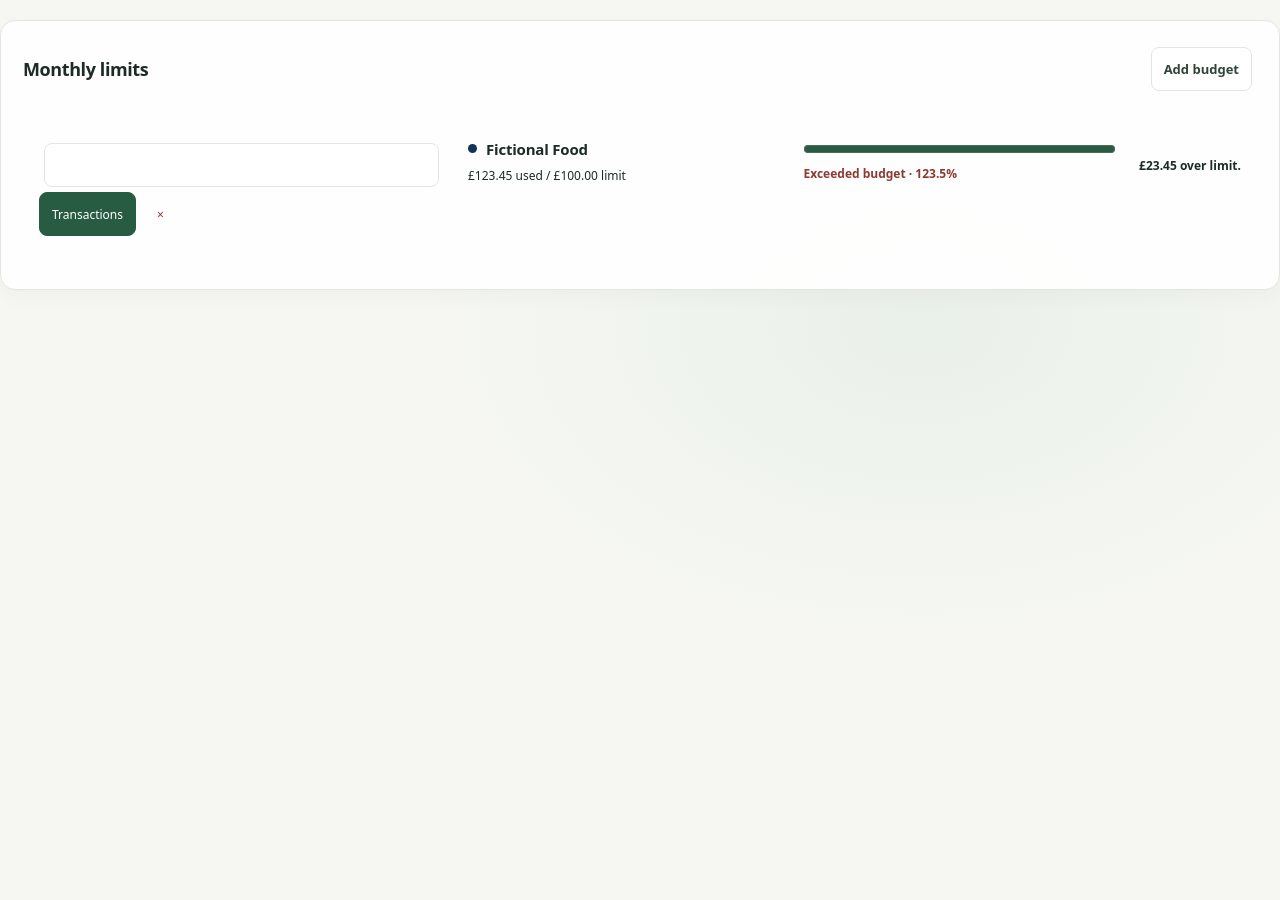
Test: monthly budgets › reloads for manual category changes and confirms removals
Click the button named "Remove budget for Fictional Food" at {"x": 160, "y": 214}, box [144, 192, 177, 236]
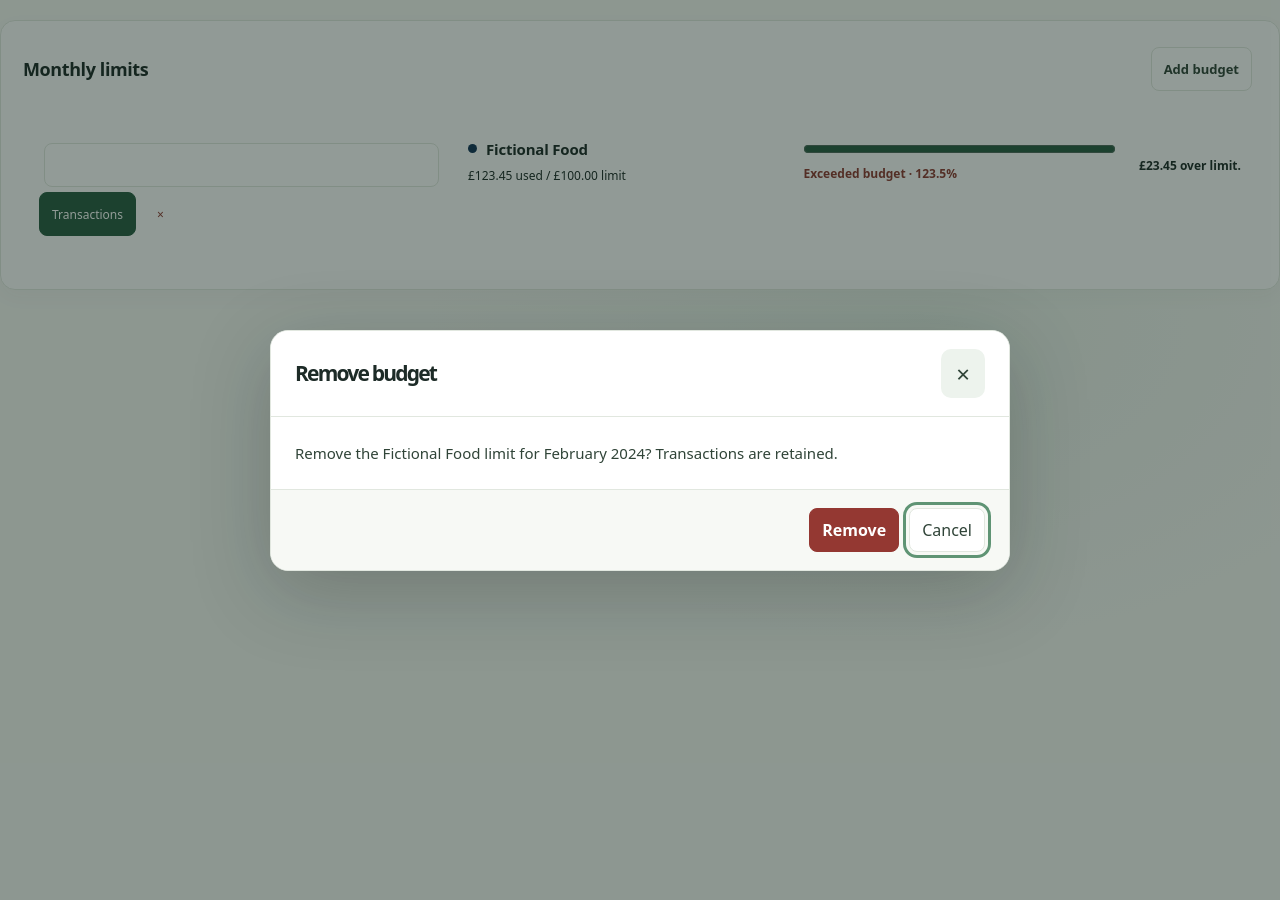
Now the dialog "Remove budget" shows "Remove the Fictional Food limit for February 2024?", box [295, 442, 838, 462]
Click the button with aria-label "Cancel budget removal" at {"x": 947, "y": 530}, box [909, 508, 985, 552]
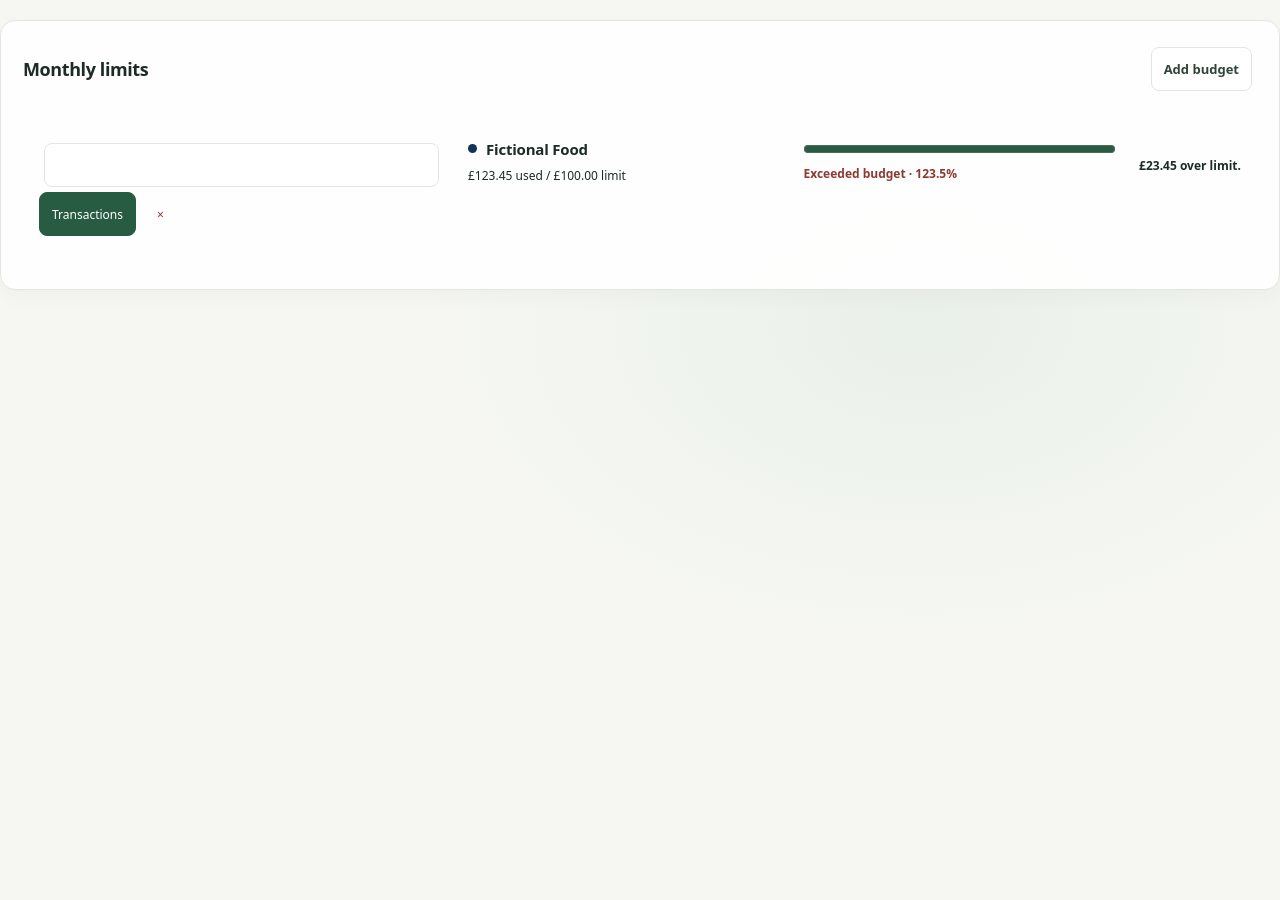
Now the dialog is gone
Click the button named "Remove budget for Fictional Food" at {"x": 160, "y": 214}, box [144, 192, 177, 236]
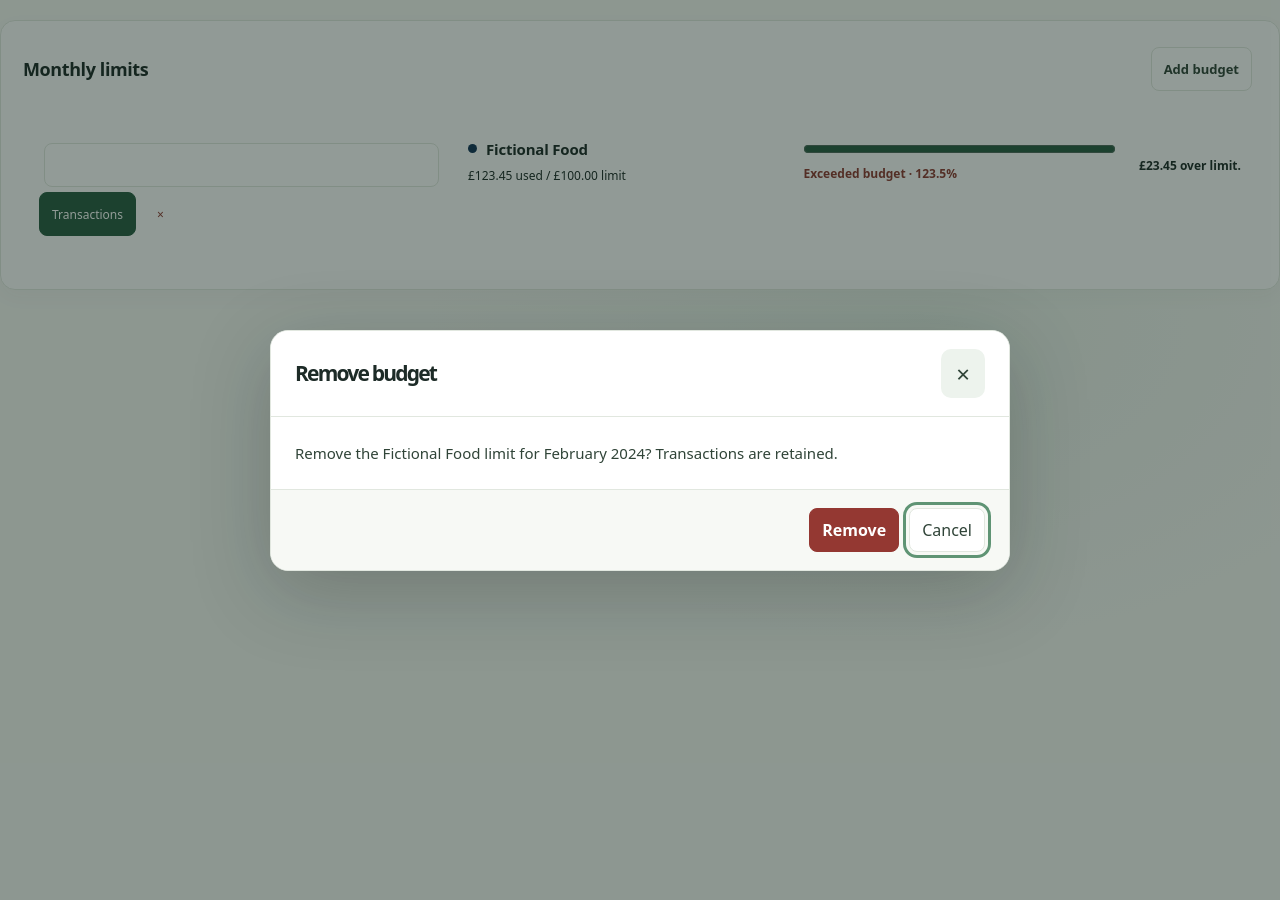
Click the button with aria-label "Confirm budget removal" at {"x": 854, "y": 530}, box [809, 508, 899, 552]
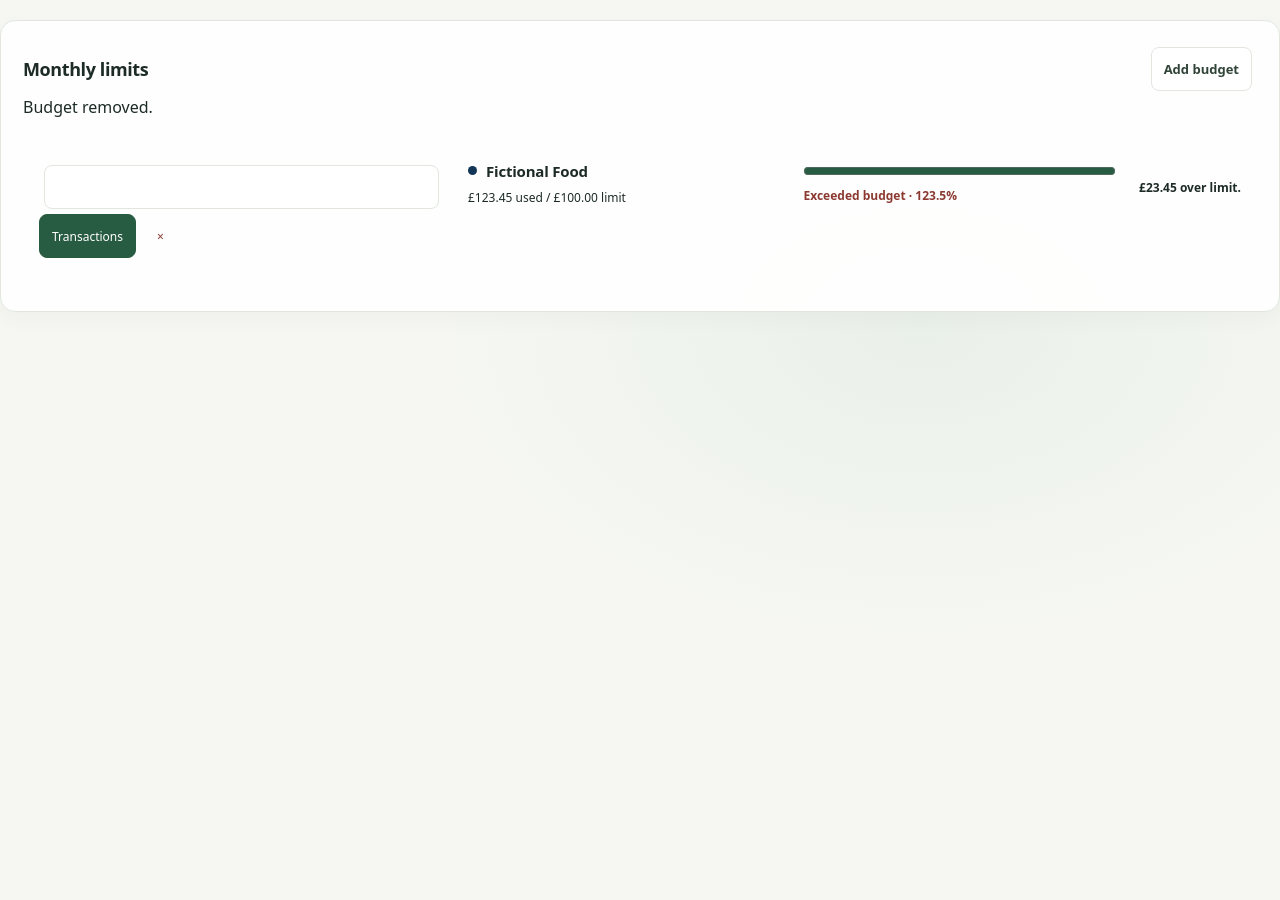
Now the dialog is gone
